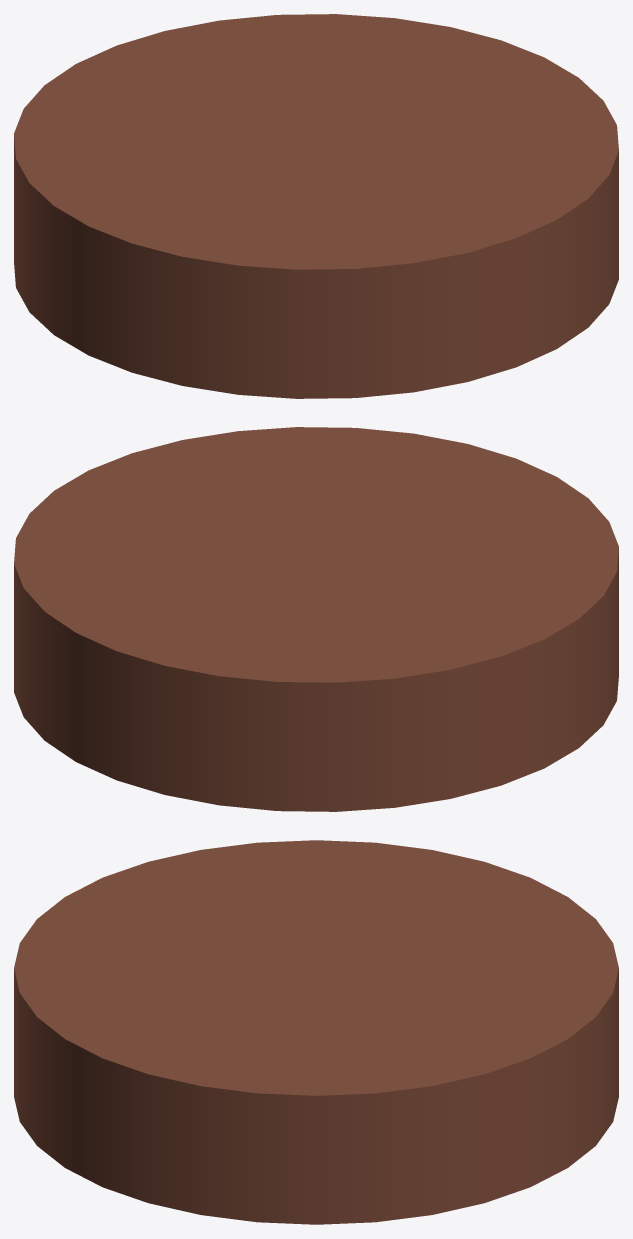
File: mech_1_unlockAnim_1.fbx
3 views of the same model, one above another, from view 1: azimuth 30°, elevation 25°; view 2: azimuth 150°, elevation 25°; view 3: azimuth 270°, elevation 25° (orthographic).
Parts seen in each view (by area): view 1: mech_1_lv1.002; view 2: mech_1_lv1.002; view 3: mech_1_lv1.002.
Boxes of the visible parts, x1,y1,x2,y2 form: mech_1_lv1.002: (14, 14, 618, 398); mech_1_lv1.002: (14, 427, 618, 811); mech_1_lv1.002: (14, 840, 618, 1224).
Bounding box in the file's own units: 105 × 24.76 × 105.
